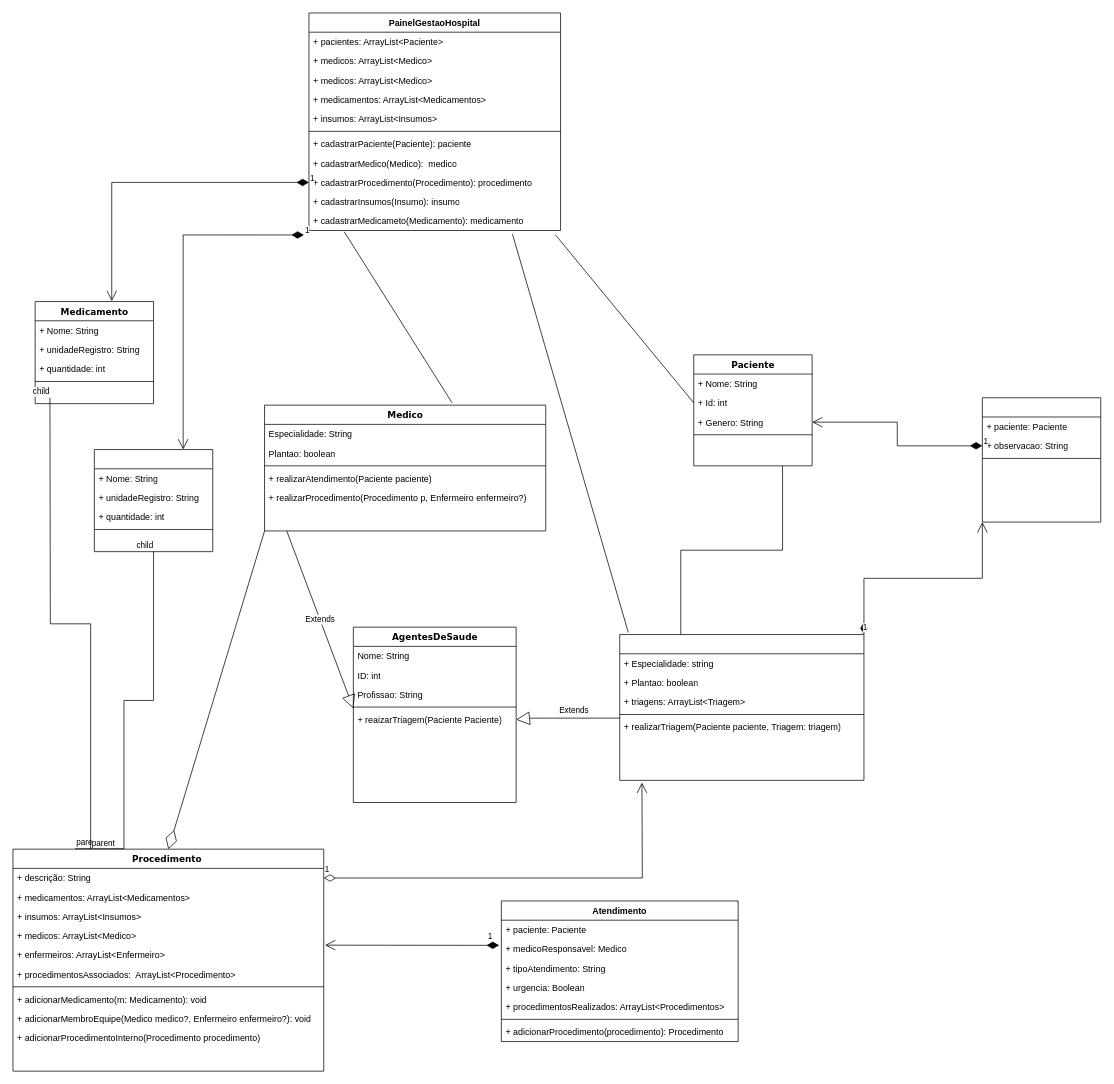
This 1114x1084 diagram has some shape labels left out. The box of each missing label's shape, as (x1, y1, x2, y2) in pixels:
Enfermeiro: (619, 634, 864, 780)
Insumo: (94, 449, 213, 552)
Triagem: (982, 397, 1101, 522)
